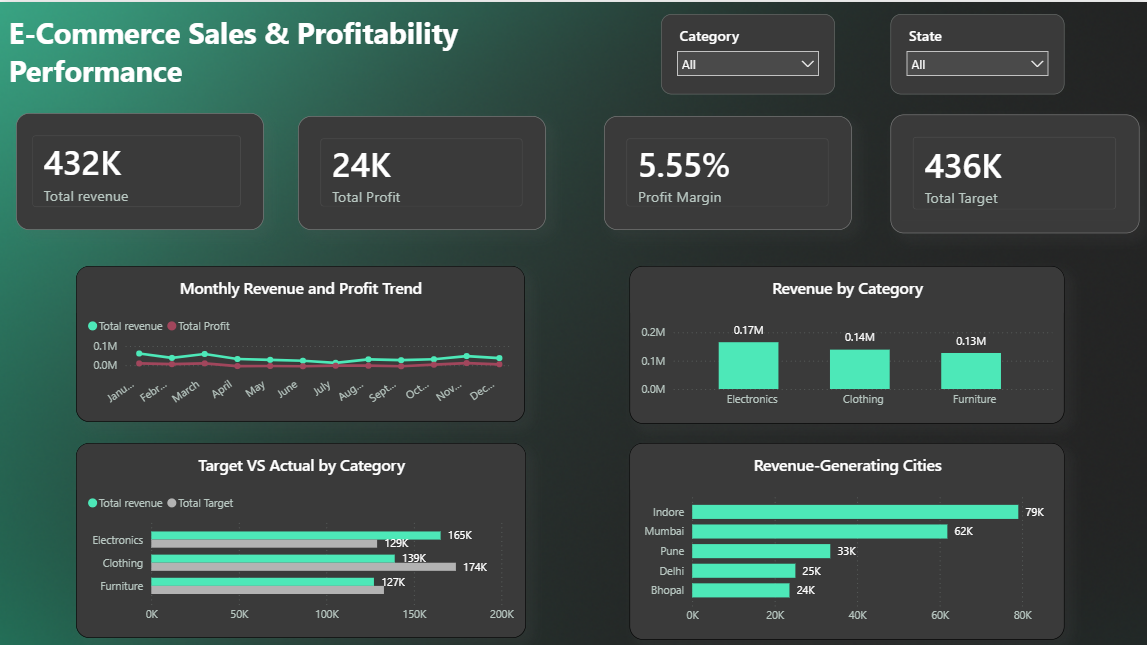

The page's visual inventory and layout, read from the dashboard file:
{"tool":"powerbi","page":{"name":"Page 1","canvas":[1280,720],"ordinal":0},"visuals":[{"type":"shape","box":[20,128.3,1248.3,125],"z":500},{"type":"shape","box":[138.7,489.2,465,222],"z":625},{"type":"shape","box":[0,0,1280,80],"z":687},{"type":"cardVisual","fields":{"Data":["ORDER_DETAILS.Total Profit"]},"box":[333.3,126.7,275,126.7],"z":750},{"type":"cardVisual","fields":{"Data":["ORDER_DETAILS.Profit Margin"]},"box":[673.3,126.7,275,126.7],"z":1000},{"type":"cardVisual","fields":{"Data":["ORDER_DETAILS.Total revenue"]},"box":[20,123.3,275,130],"z":2000},{"type":"shape","box":[715,491.2,470,220],"z":2500},{"type":"shape","box":[138,270,470,220],"z":3000},{"type":"lineChart","title":"Monthly Revenue and Profit Trend","fields":{"Category":["ORDERS.Order Date.Variation.Date Hierarchy.Month"],"Y":["ORDER_DETAILS.Total revenue","ORDER_DETAILS.Total Profit"]},"box":[158.3,293.3,426.7,173.3],"z":4000},{"type":"shape","box":[715,270,470,220],"z":4500},{"type":"clusteredColumnChart","title":"Revenue by Category","fields":{"Category":["ORDER_DETAILS.Category"],"Y":["ORDER_DETAILS.Total revenue"]},"box":[736.2,293.8,426.2,173.8],"z":5000},{"type":"clusteredBarChart","title":"Target VS Actual by Category","fields":{"Category":["ORDER_DETAILS.Category"],"Y":["ORDER_DETAILS.Total revenue","SALES_TARGET.Total Target"]},"box":[160,504,426.2,190],"z":6000},{"type":"slicer","fields":{"Values":["ORDERS.State"]},"box":[992,14,193,89],"z":7000},{"type":"slicer","fields":{"Values":["ORDER_DETAILS.Category"]},"box":[736,14,193,89],"z":8000},{"type":"textbox","box":[0,0,702,104],"z":9000},{"type":"cardVisual","fields":{"Data":["SALES_TARGET.Total Target"]},"box":[991.7,125,276.7,131.7],"z":10000},{"type":"clusteredBarChart","title":"Top Cities by Revenue","fields":{"Category":["ORDERS.City"],"Y":["ORDER_DETAILS.Total revenue"]},"box":[736,504,426,190],"z":11000}]}

Visuals, with their boxes in screenshot pixels (x1, y1, x2, y2), scaled from the page's 1280x720 canvas onto the 1147x645 screenshot:
shape: <box>18,115,1137,227</box>
shape: <box>124,438,541,637</box>
shape: <box>0,0,1146,72</box>
cardVisual - ORDER_DETAILS.Total Profit: <box>299,114,545,227</box>
cardVisual - ORDER_DETAILS.Profit Margin: <box>603,114,850,227</box>
cardVisual - ORDER_DETAILS.Total revenue: <box>18,110,264,227</box>
shape: <box>641,440,1062,637</box>
shape: <box>124,242,545,439</box>
"Monthly Revenue and Profit Trend" lineChart: <box>142,263,524,418</box>
shape: <box>641,242,1062,439</box>
"Revenue by Category" clusteredColumnChart: <box>660,263,1042,419</box>
"Target VS Actual by Category" clusteredBarChart: <box>143,452,525,622</box>
slicer - ORDERS.State: <box>889,13,1062,92</box>
slicer - ORDER_DETAILS.Category: <box>660,13,832,92</box>
textbox: <box>0,0,629,93</box>
cardVisual - SALES_TARGET.Total Target: <box>889,112,1137,230</box>
"Top Cities by Revenue" clusteredBarChart: <box>660,452,1041,622</box>
